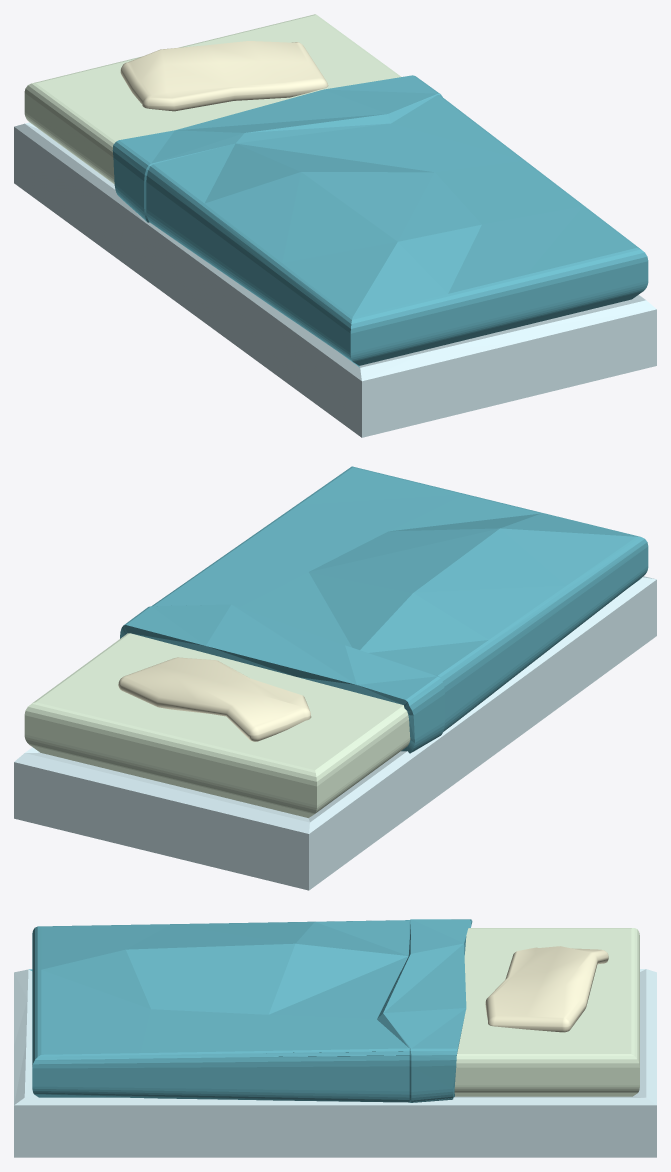
Rendered from Bed_1.fbx.
The picture shows the model from 3 angles, top to bottom: view 1: azimuth 30°, elevation 25°; view 2: azimuth 150°, elevation 25°; view 3: azimuth 270°, elevation 25°; orthographic projection. The views are drawn at different scales.
Visible parts, largest first — view 1: pCube1, pCube2; view 2: pCube1, pCube2; view 3: pCube1, pCube2.
Boxes of the visible parts, x1,y1,x2,y2 form: pCube1: (14, 14, 656, 437); pCube2: (120, 41, 328, 111); pCube1: (14, 466, 656, 890); pCube2: (118, 657, 311, 741); pCube1: (14, 919, 656, 1157); pCube2: (485, 946, 608, 1032).
Size of the model in its own units: 69.43 by 29.42 by 139.
